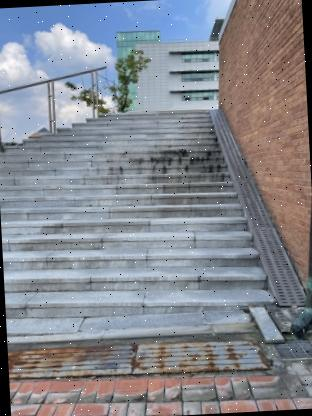stair: (0, 77, 260, 361)
